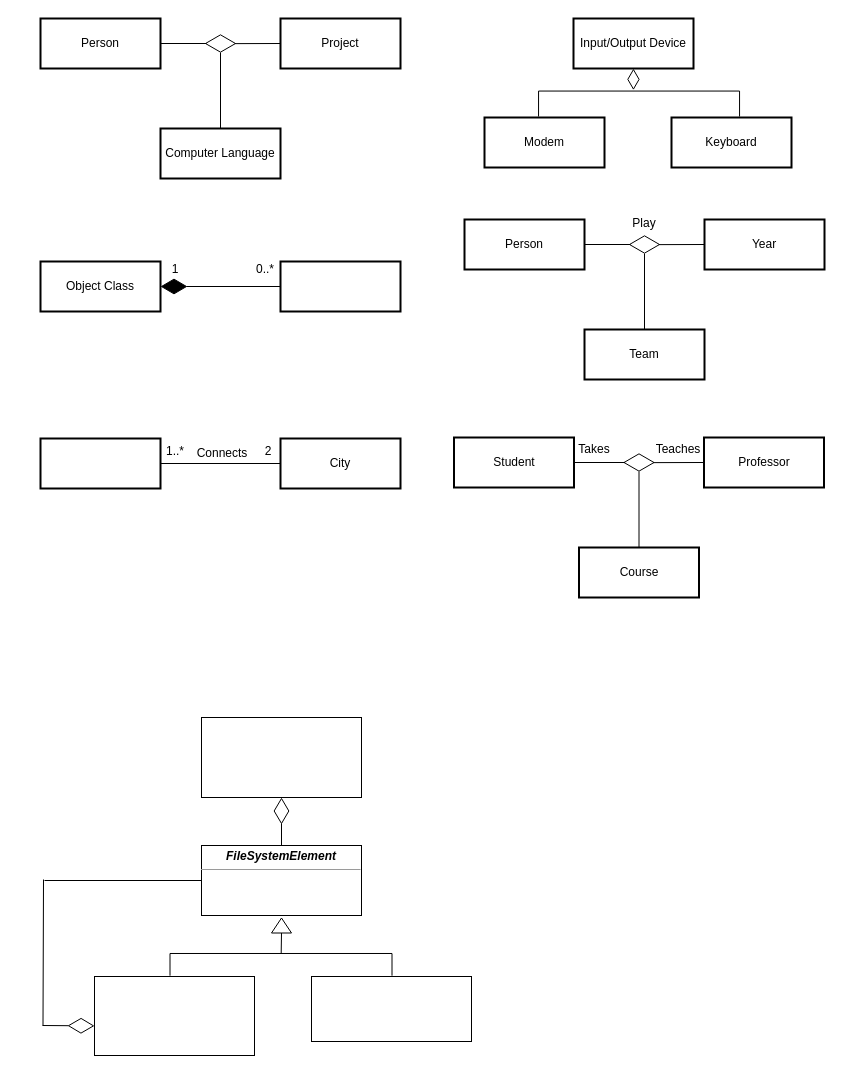
Some shapes in this 843 by 1073 pixel diagram are drawn without their labels. The shapes that lost their labels are listed below. From the top down, each one's centre as x and y in pixels, then its label:
(340,286): Attribute
(100,463): Route
(281,757): FileSystem + rootDirectory: Directory + getRoot(): Directory
(174,1016): Directory + name: String + parent: Directory + children: List<FileNode>
(391,1009): File + name: String + parent: Directory
